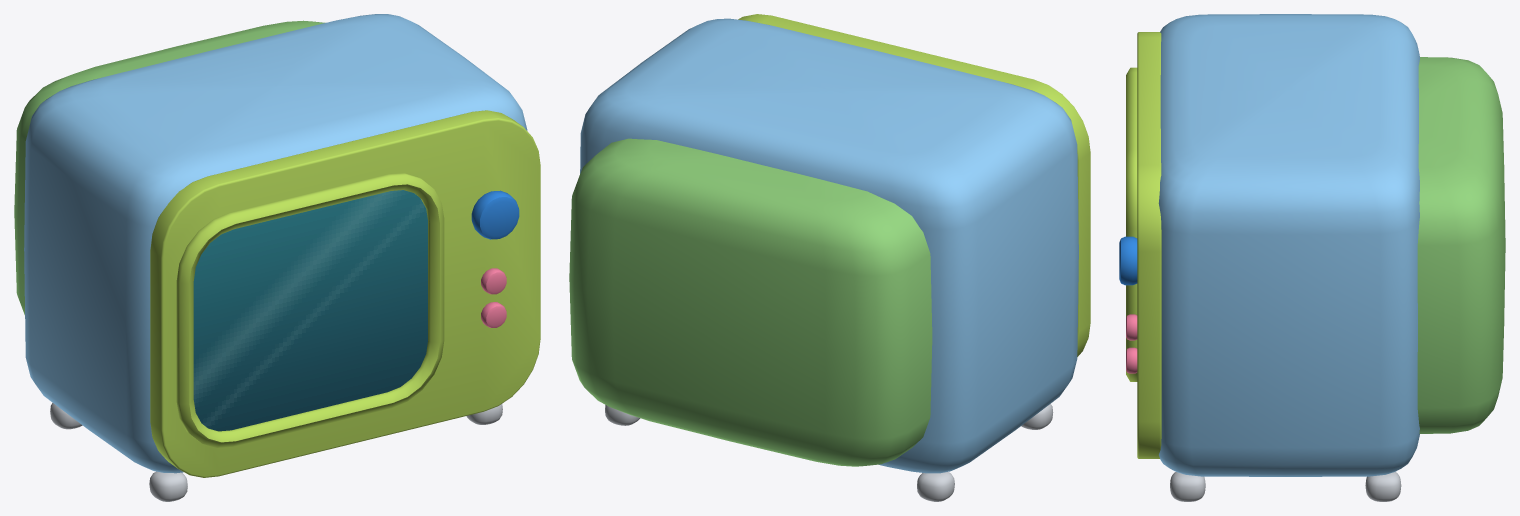
The model's file is tv_tubo_agua.glb.
3 views of the same model, side by side, from view 1: azimuth 30°, elevation 25°; view 2: azimuth 150°, elevation 25°; view 3: azimuth 270°, elevation 25° (orthographic).
Parts seen in each view (by area): view 1: tv_tubo_agua; view 2: tv_tubo_agua; view 3: tv_tubo_agua.
Boxes of the visible parts, x1=… form: tv_tubo_agua: x1=14, y1=14, x2=540, y2=501; tv_tubo_agua: x1=569, y1=14, x2=1090, y2=501; tv_tubo_agua: x1=1119, y1=14, x2=1505, y2=501.
Size of the model in its own units: 0.56 by 0.45 by 0.474.
2 materials, 2 textured.
